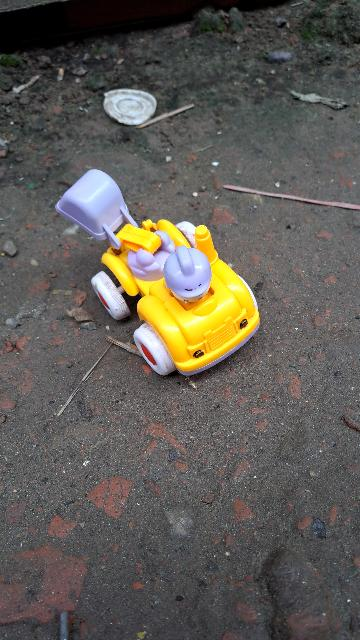hardplastic: (78, 193, 280, 399)
